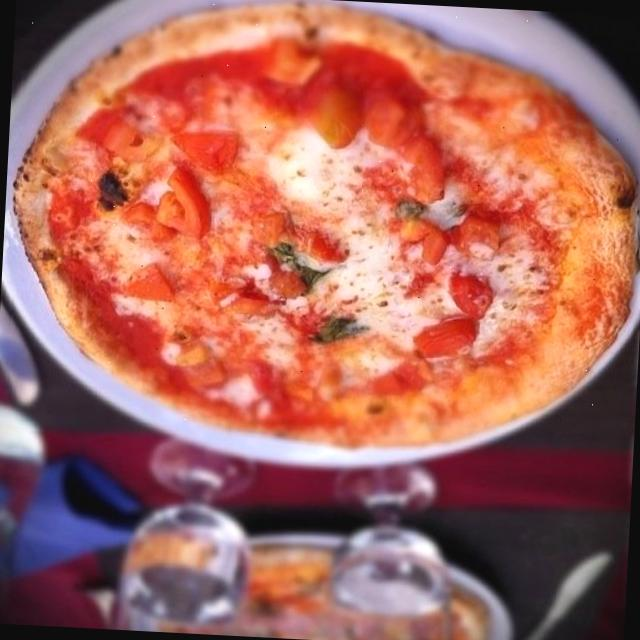basil: (274, 248, 324, 299), (308, 318, 374, 348), (396, 197, 426, 220)
pizza: (16, 6, 636, 447)
tomato: (362, 92, 448, 202), (157, 166, 216, 244), (168, 126, 240, 176), (412, 316, 483, 366), (110, 261, 184, 305), (387, 218, 449, 268), (95, 120, 163, 162), (449, 214, 512, 259), (242, 206, 298, 251), (443, 276, 502, 316), (122, 202, 175, 245), (220, 287, 284, 322), (304, 234, 356, 269)
